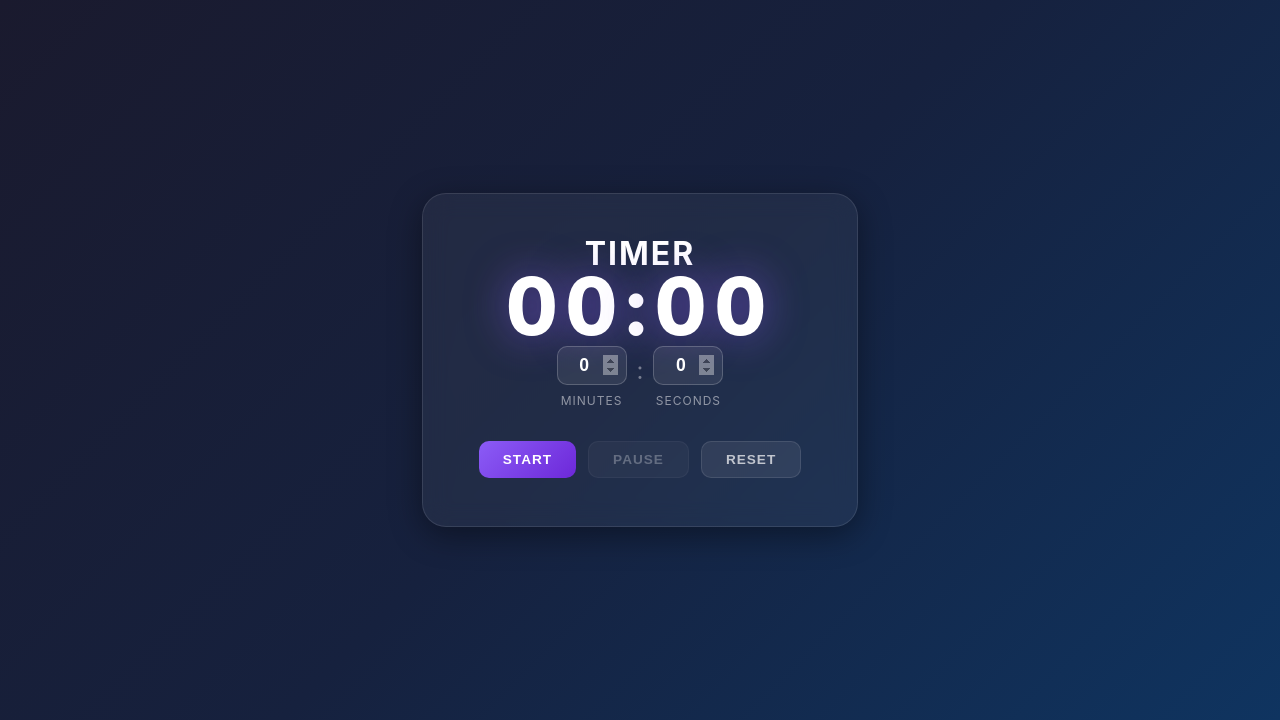
Scenario: CountdownTimer › starts counting down after clicking Start
The image size is (1280, 720).
Replace the text in the 2nd number field with "10": (688, 366) [654,346,724,385]
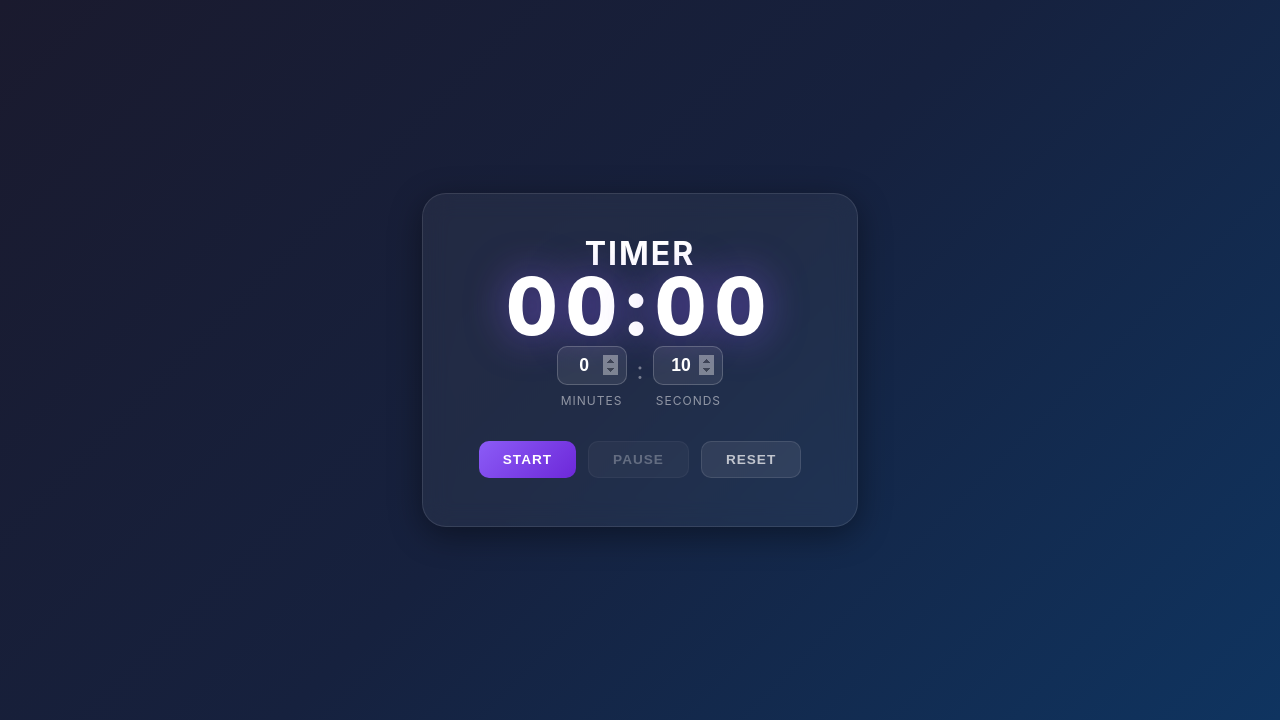
Click the button "Start": (527, 460) [479,441,576,478]
Wait 3000 ms
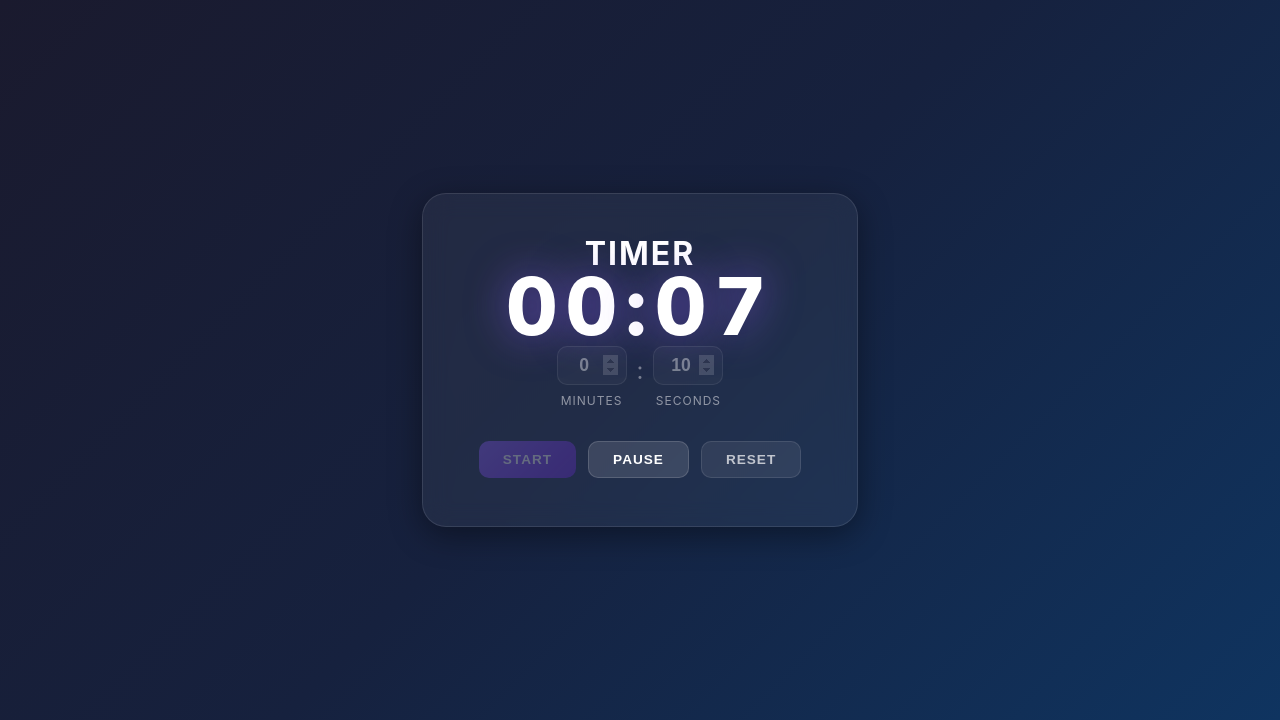
Now the text "00:07" is shown, box [506,294,774,318]
